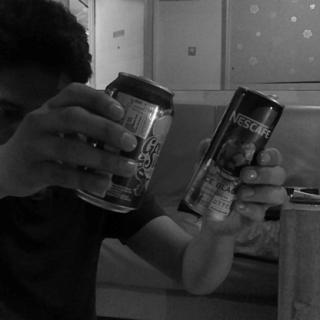alumunium_can: (73, 72, 178, 214), (181, 83, 285, 223)
